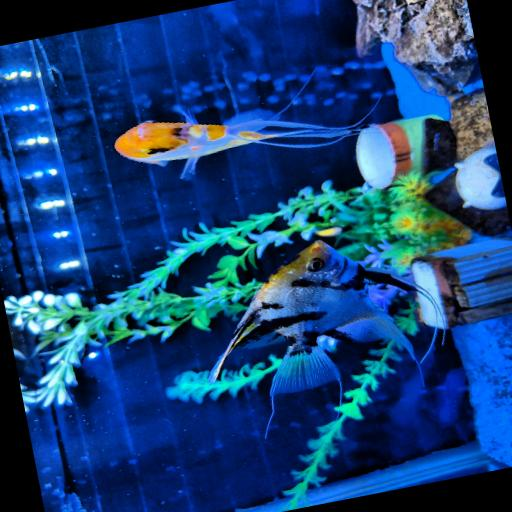Fish: (209, 240, 425, 396), (114, 108, 368, 178)
